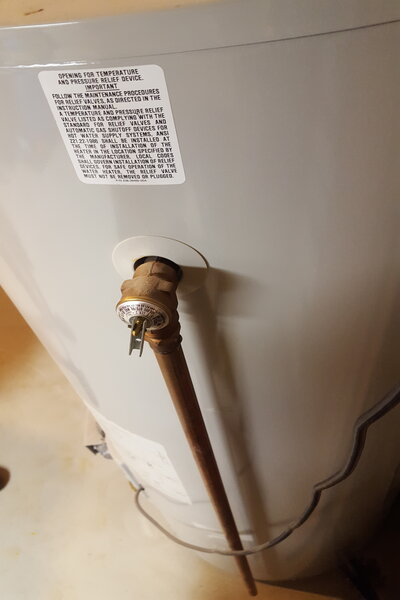valve: (115, 255, 185, 362)
